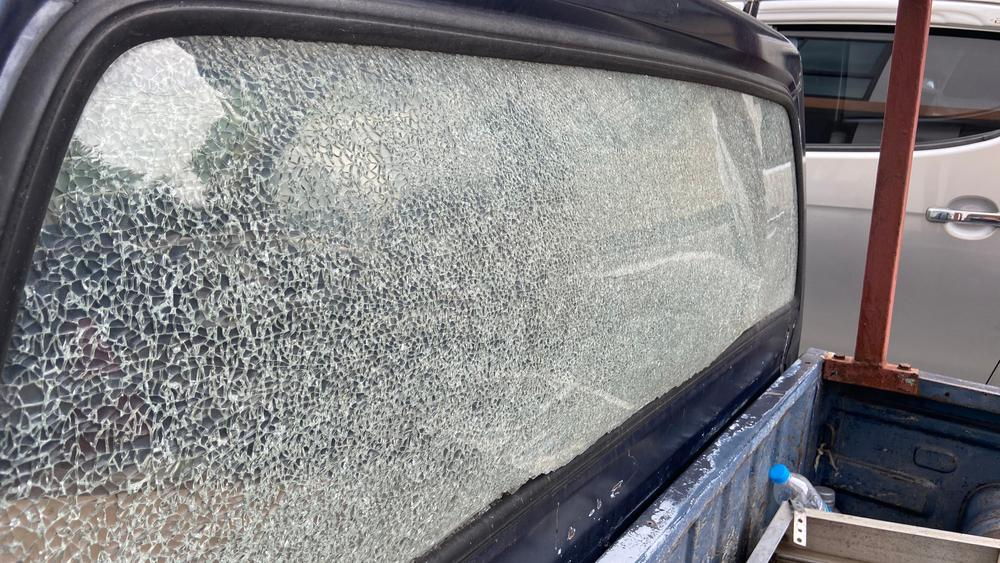glass shatter: (0, 36, 798, 563)
